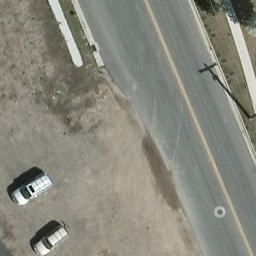car: (9, 172, 56, 208)
